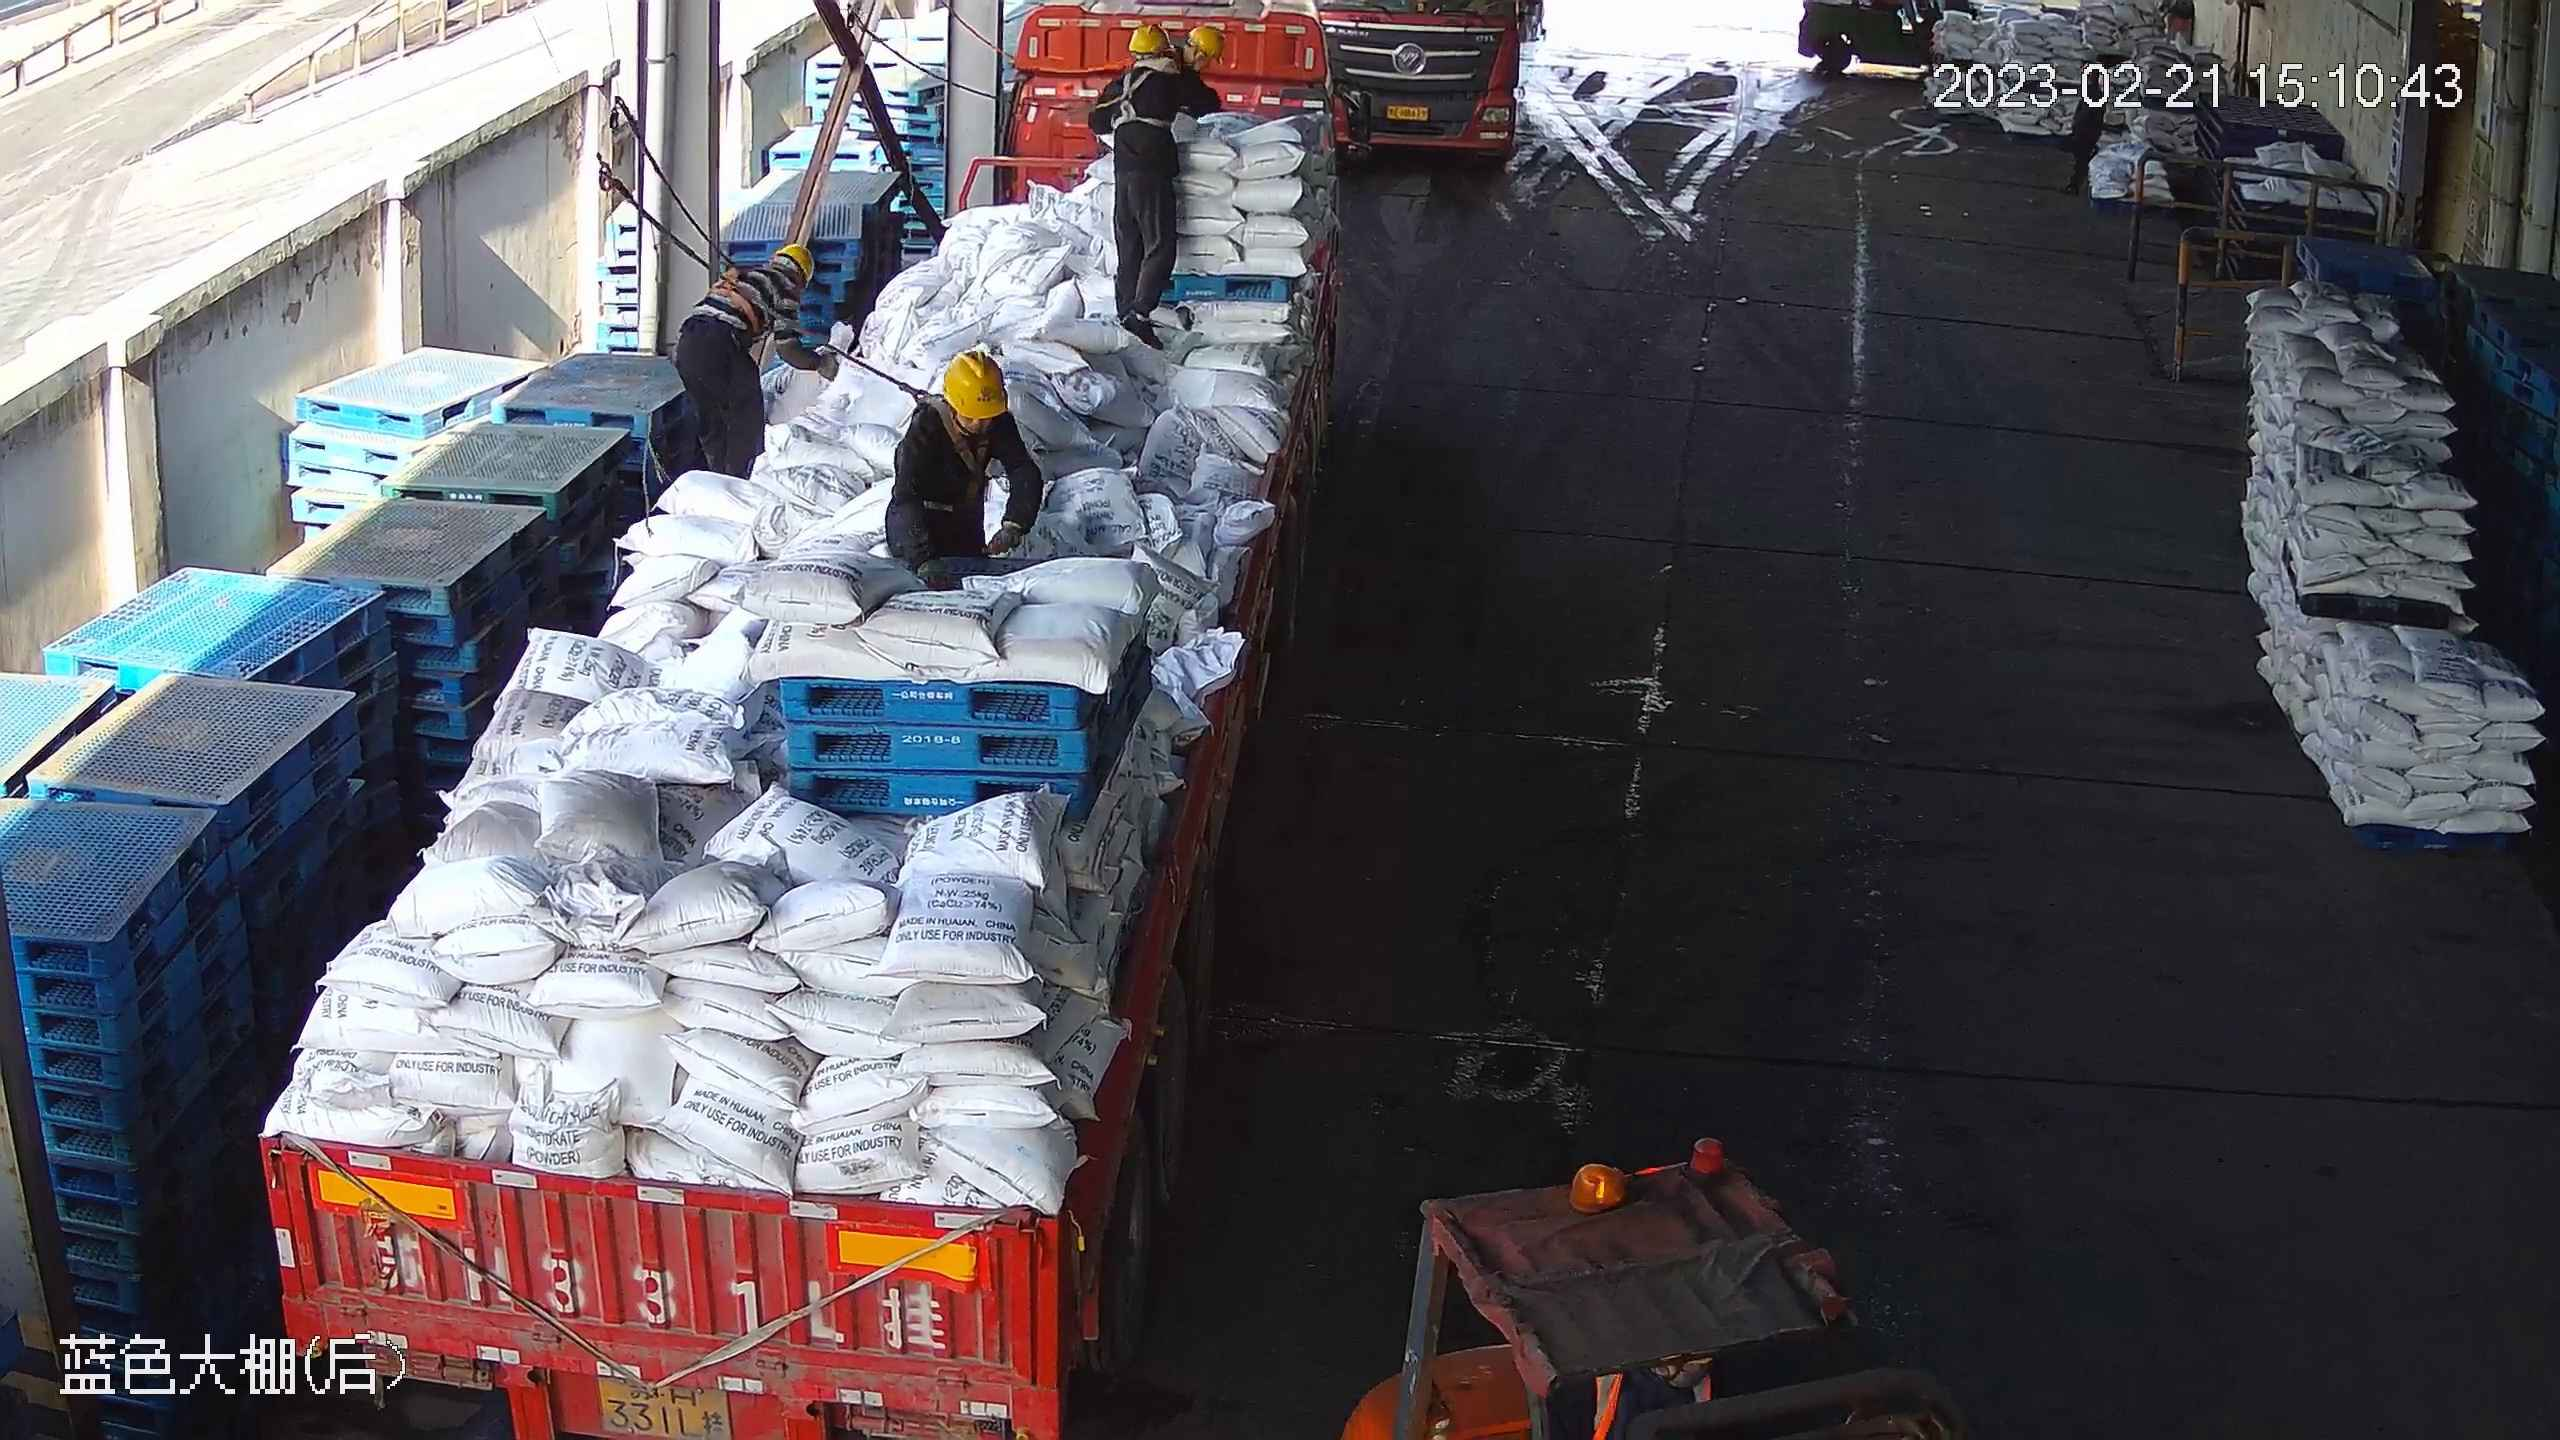belt: (908, 388, 998, 501), (1103, 69, 1184, 135), (712, 250, 769, 345)
head: (920, 354, 1034, 478), (1103, 25, 1205, 144), (720, 247, 825, 345)
helmet: (942, 356, 1010, 420), (774, 244, 817, 288), (1127, 23, 1173, 56), (1188, 23, 1225, 57)
people: (1084, 17, 1229, 362), (676, 244, 829, 483), (884, 352, 1042, 574), (2064, 57, 2101, 194)
truck: (252, 6, 1339, 1440), (1322, 1, 1542, 167)
